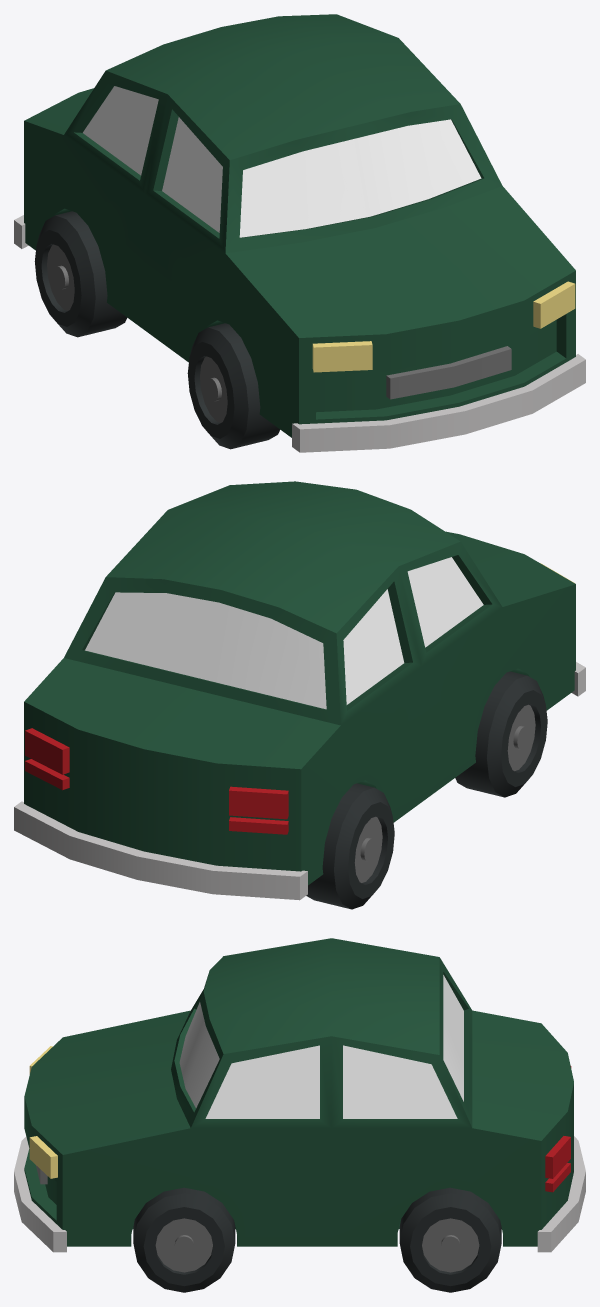
The model's file is obj_car2_2.fbx.
The picture shows the model from 3 angles, top to bottom: view 1: azimuth 30°, elevation 25°; view 2: azimuth 150°, elevation 25°; view 3: azimuth 270°, elevation 25°; orthographic projection. The views are drawn at different scales.
Visible parts, largest first — view 1: obj_car2_2; view 2: obj_car2_2; view 3: obj_car2_2.
Boxes of the visible parts, x1,y1,x2,y2 form: obj_car2_2: [14, 14, 585, 452]; obj_car2_2: [14, 481, 585, 909]; obj_car2_2: [14, 938, 585, 1292].
Size of the model in its own units: 1.38 by 1.27 by 2.55.
2 materials, 2 textured.
